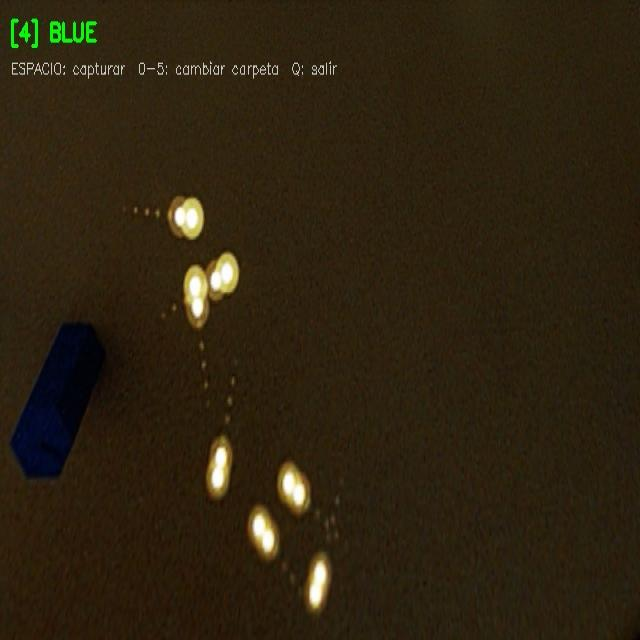blue: (9, 315, 107, 483)
